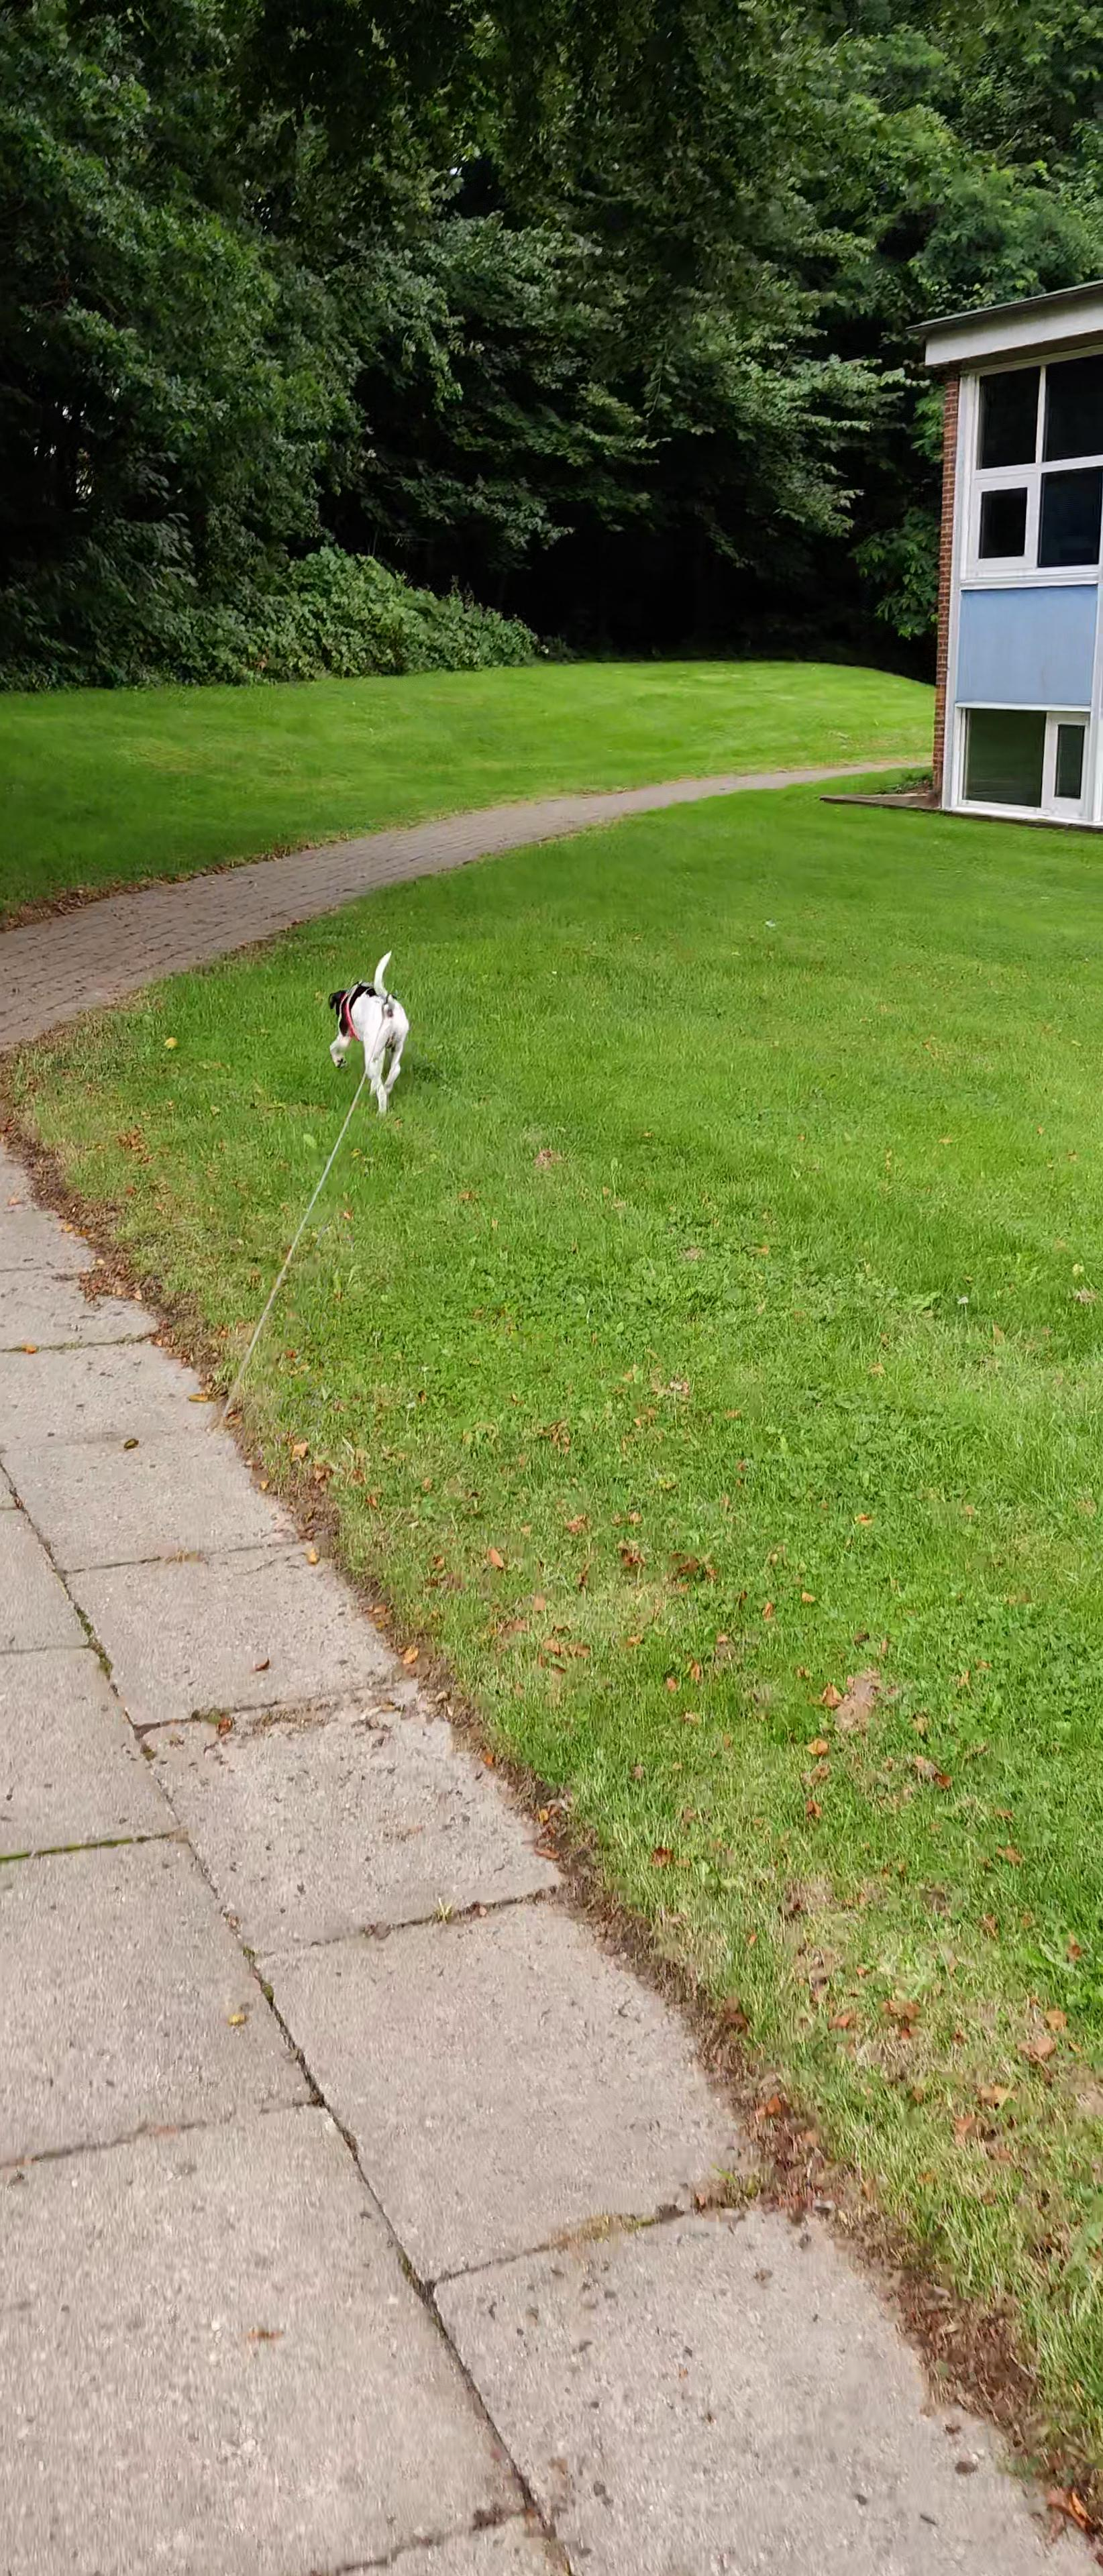Dog: (314, 940, 431, 1125)
